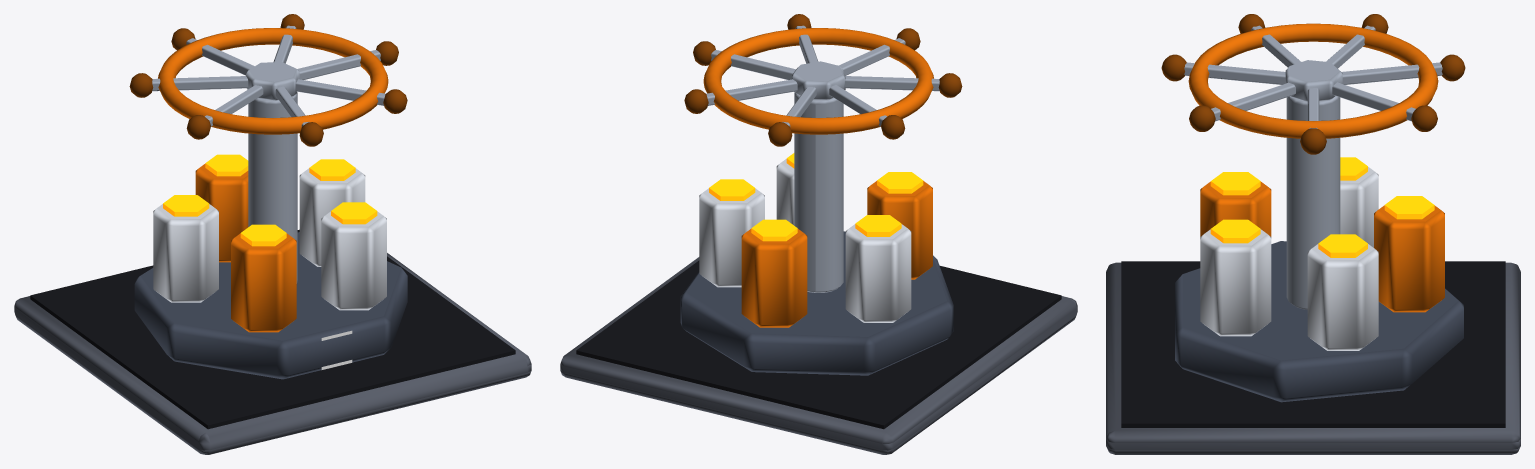
Rendered from eks.glb.
3 renders of one model, left to right at view 1: azimuth 30°, elevation 25°; view 2: azimuth 150°, elevation 25°; view 3: azimuth 270°, elevation 25°, orthographic. The views are drawn at different scales.
Parts seen in each view (by area): view 1: body.rubber, body.steel, body.concrete, body.white, body.accent, spin_helm.accent, spin_helm.steel_light, body.steel_light, body.accent_glow, spin_helm.accent_dark; view 2: body.rubber, body.steel, body.concrete, body.white, body.accent, spin_helm.accent, body.steel_light, spin_helm.steel_light, body.accent_glow, spin_helm.accent_dark; view 3: body.rubber, body.steel, body.concrete, body.white, spin_helm.accent, body.accent, body.steel_light, spin_helm.steel_light, body.accent_glow, spin_helm.accent_dark.
Part boxes in pixels (left/top/right/bottom): body.rubber: left=30, top=229, right=515, bottom=429; body.steel: left=134, top=232, right=407, bottom=379; body.concrete: left=14, top=253, right=531, bottom=454; body.white: left=153, top=168, right=386, bottom=310; body.accent: left=195, top=164, right=296, bottom=332; spin_helm.accent: left=158, top=28, right=388, bottom=134; spin_helm.steel_light: left=152, top=25, right=385, bottom=126; body.steel_light: left=248, top=92, right=297, bottom=283; body.accent_glow: left=163, top=154, right=377, bottom=246; spin_helm.accent_dark: left=129, top=14, right=407, bottom=146; body.rubber: left=576, top=260, right=1061, bottom=429; body.steel: left=680, top=231, right=953, bottom=375; body.concrete: left=560, top=257, right=1077, bottom=454; body.white: left=699, top=159, right=911, bottom=322; body.accent: left=741, top=181, right=932, bottom=327; spin_helm.accent: left=703, top=28, right=933, bottom=134; body.steel_light: left=794, top=92, right=843, bottom=292; spin_helm.steel_light: left=706, top=25, right=939, bottom=126; body.accent_glow: left=709, top=153, right=923, bottom=241; spin_helm.accent_dark: left=684, top=14, right=962, bottom=146; body.rubber: left=1121, top=261, right=1505, bottom=427; body.steel: left=1175, top=241, right=1463, bottom=402; body.concrete: left=1106, top=262, right=1520, bottom=454; body.white: left=1200, top=167, right=1378, bottom=350; spin_helm.accent: left=1188, top=23, right=1438, bottom=138; body.accent: left=1200, top=181, right=1444, bottom=312; body.steel_light: left=1286, top=96, right=1340, bottom=309; spin_helm.steel_light: left=1184, top=25, right=1442, bottom=128; body.accent_glow: left=1210, top=157, right=1434, bottom=257; spin_helm.accent_dark: left=1161, top=14, right=1465, bottom=154.
Bounding box in the file's own units: 1.08 × 0.867 × 1.08.
